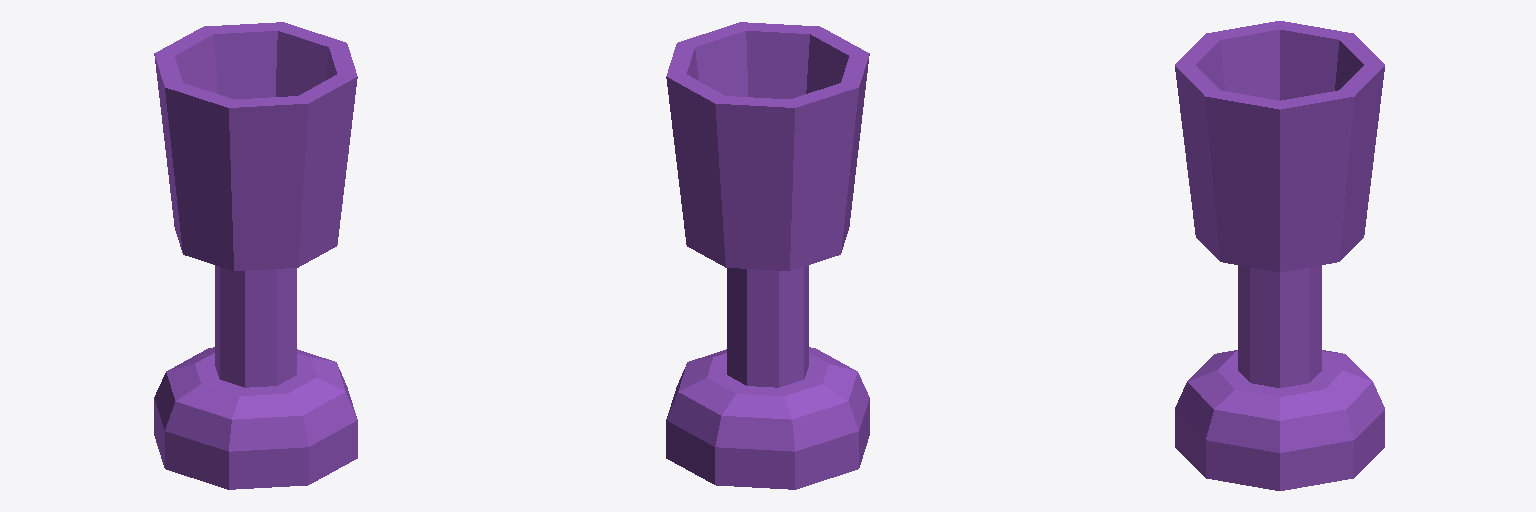
3 renders of one model, left to right at view 1: azimuth 30°, elevation 25°; view 2: azimuth 150°, elevation 25°; view 3: azimuth 270°, elevation 25°, orthographic.
Visible parts, largest first — view 1: Mesh_0035_Mesh_0035Mesh; view 2: Mesh_0035_Mesh_0035Mesh; view 3: Mesh_0035_Mesh_0035Mesh.
Boxes of the visible parts, <box> form: Mesh_0035_Mesh_0035Mesh: <box>154,22,357,489</box>; Mesh_0035_Mesh_0035Mesh: <box>666,22,869,489</box>; Mesh_0035_Mesh_0035Mesh: <box>1175,21,1384,490</box>.
Bounding box in the file's own units: 0.0762 × 0.1524 × 0.0762.
1 materials, 1 textured.